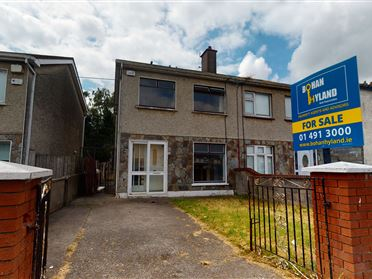property sign: (284, 54, 365, 163)
